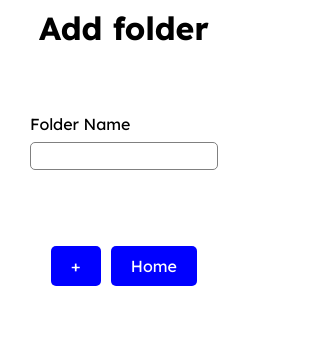
Test case: AddFolder › should display a generic error message if server response cannot be parsed
The image size is (320, 355).
In the field labelled "Folder Name": (124, 156) [30, 142, 218, 170], type "Bad Folder"
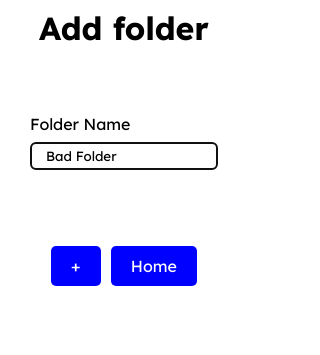
Click the button "+": (76, 266) [51, 246, 101, 286]
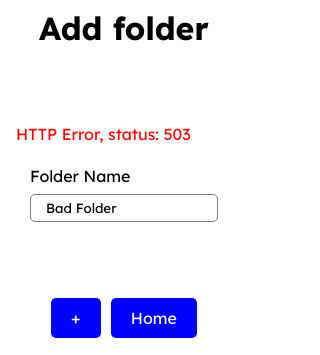
Check: the button "+" is shown, box [51, 298, 101, 338]
Check: the text "HTTP Error, status: 503" is shown, box [16, 124, 191, 144]
